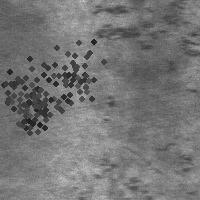rolled-in_scale: (0, 39, 86, 147), (74, 139, 199, 197), (31, 31, 113, 113), (87, 1, 198, 48), (2, 72, 64, 134)
